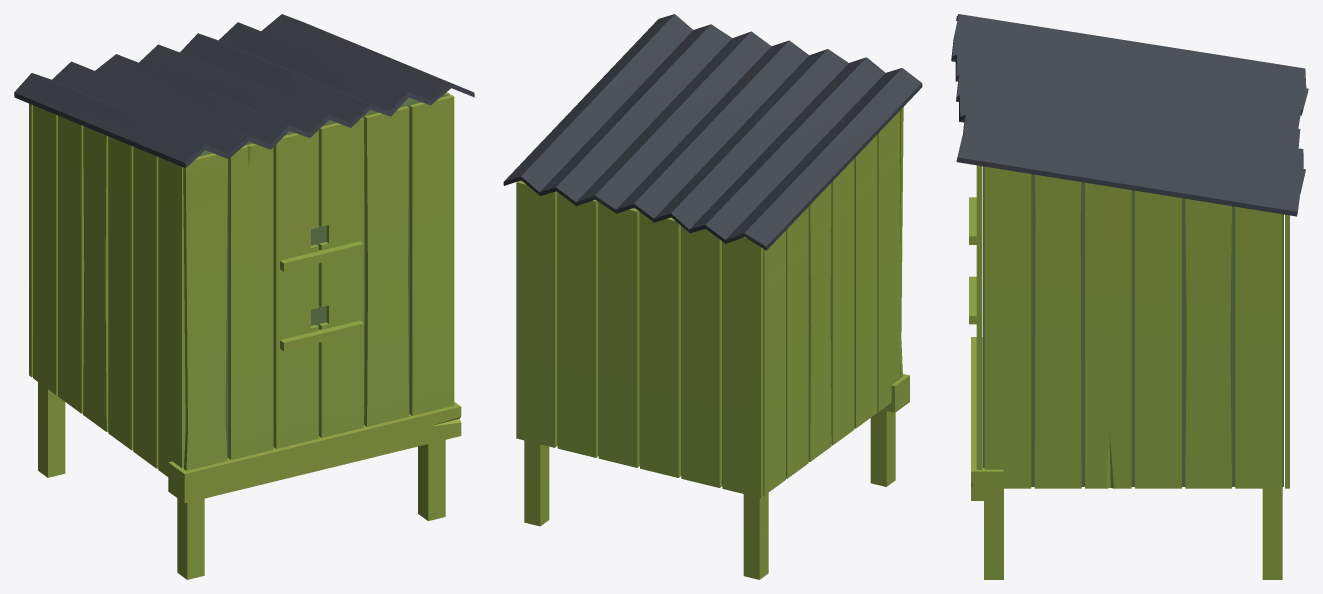
File: BeeHive_01.fbx
The picture shows the model from 3 angles, left to right: view 1: azimuth 30°, elevation 25°; view 2: azimuth 150°, elevation 25°; view 3: azimuth 270°, elevation 25°; orthographic projection. The views are drawn at different scales.
Parts seen in each view (by area): view 1: BeeHive_01; view 2: BeeHive_01; view 3: BeeHive_01.
Part boxes in pixels (left/top/right/bottom): BeeHive_01: left=14, top=14, right=474, bottom=579; BeeHive_01: left=503, top=14, right=922, bottom=579; BeeHive_01: left=951, top=14, right=1308, bottom=579.
Size of the model in its own units: 0.6459 by 0.9446 by 0.6919.
